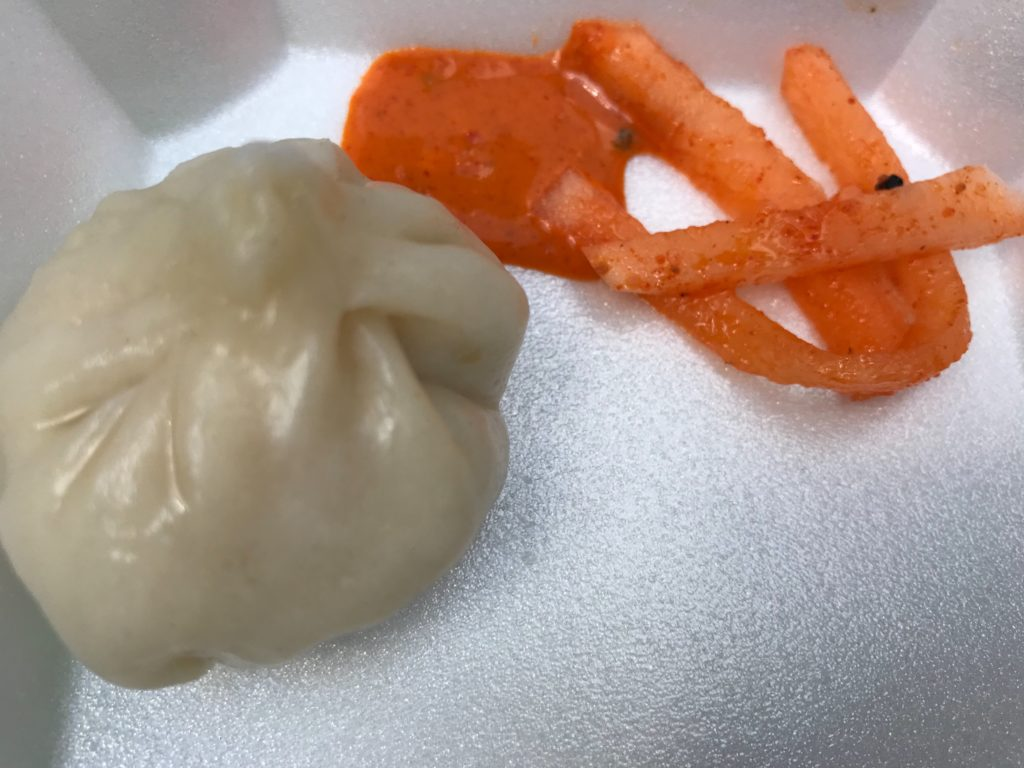momo: (0, 140, 525, 687)
